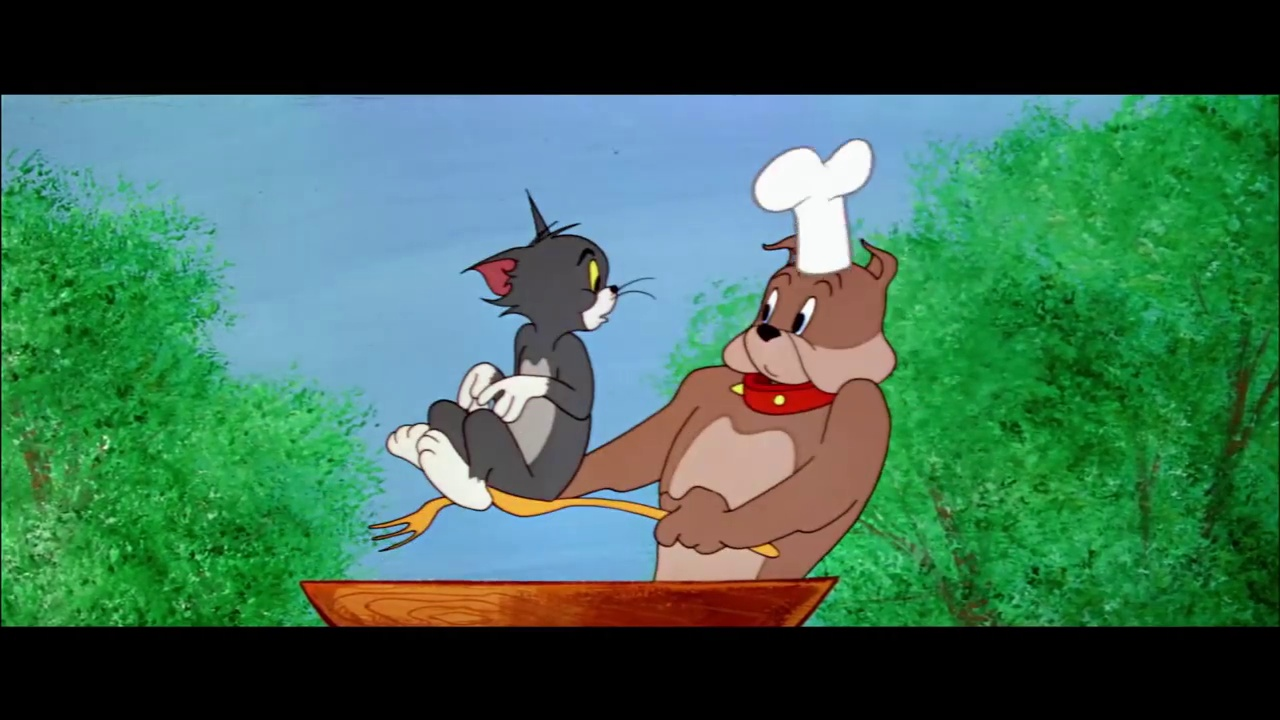spike: (717, 231, 899, 420)
tom: (461, 188, 642, 343)
